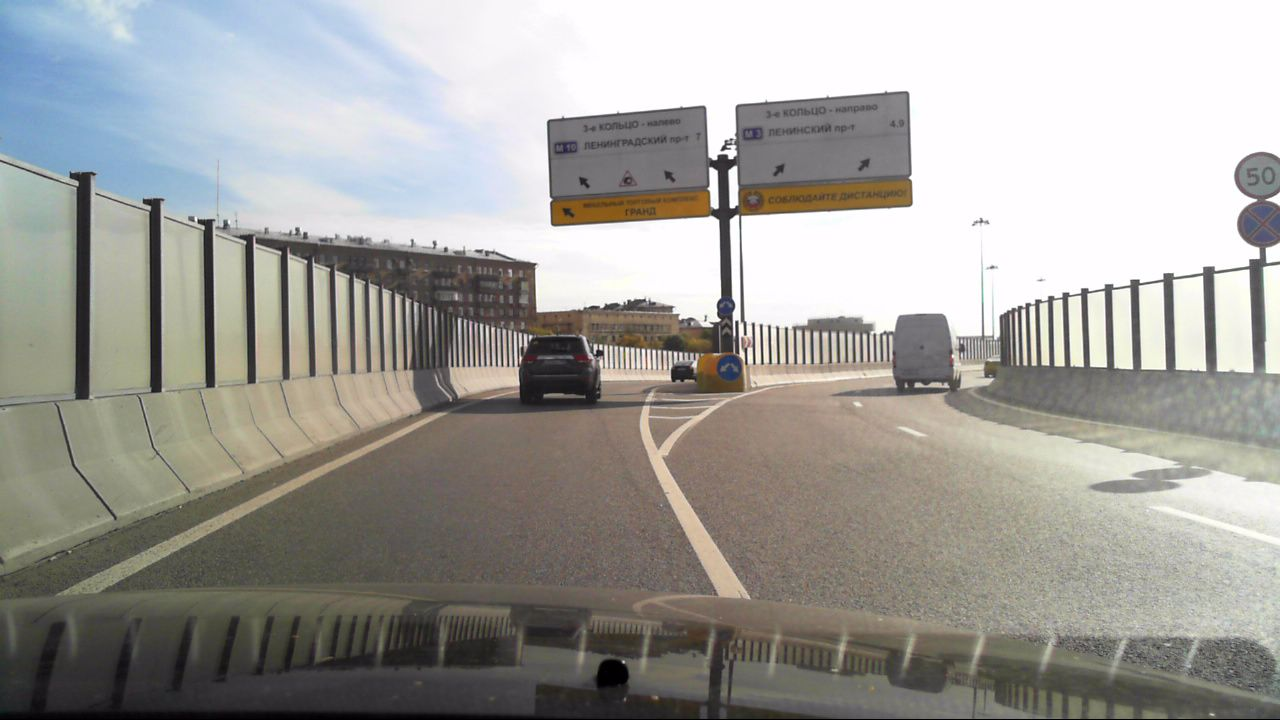No Parking: (1235, 198, 1279, 251)
